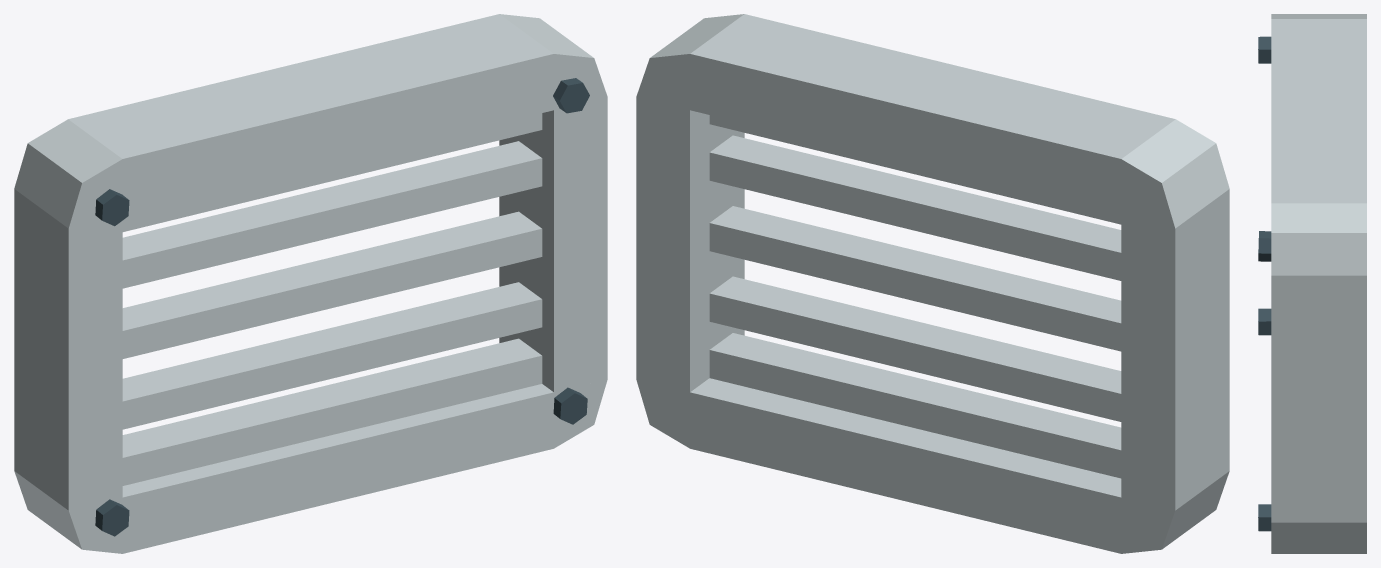
File: airvent.obj
The picture shows the model from 3 angles, left to right: view 1: azimuth 30°, elevation 25°; view 2: azimuth 150°, elevation 25°; view 3: azimuth 270°, elevation 25°; orthographic projection. The views are drawn at different scales.
Parts seen in each view (by area): view 1: group1938750909; view 2: group1938750909; view 3: group1938750909.
Boxes of the visible parts, x1=… form: group1938750909: x1=14, y1=14, x2=607, y2=553; group1938750909: x1=636, y1=14, x2=1229, y2=553; group1938750909: x1=1258, y1=14, x2=1366, y2=553.
Bounding box in the file's own units: 0.5323 × 0.3726 × 0.1061.
